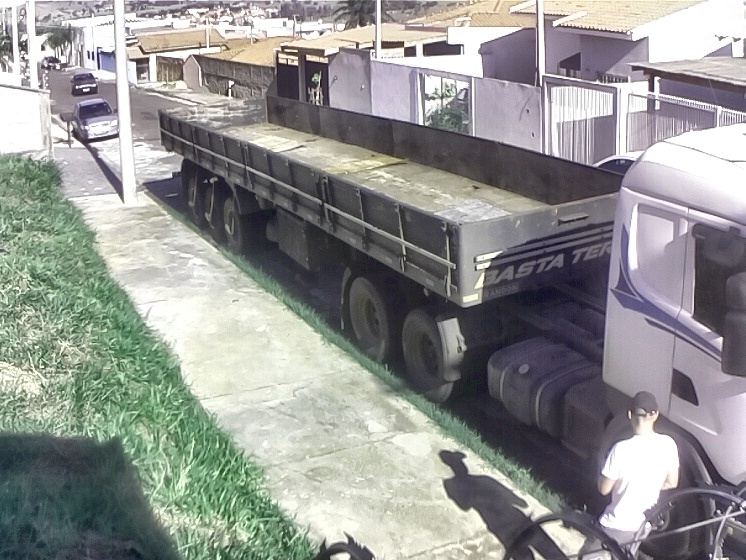person: (576, 389, 682, 560)
